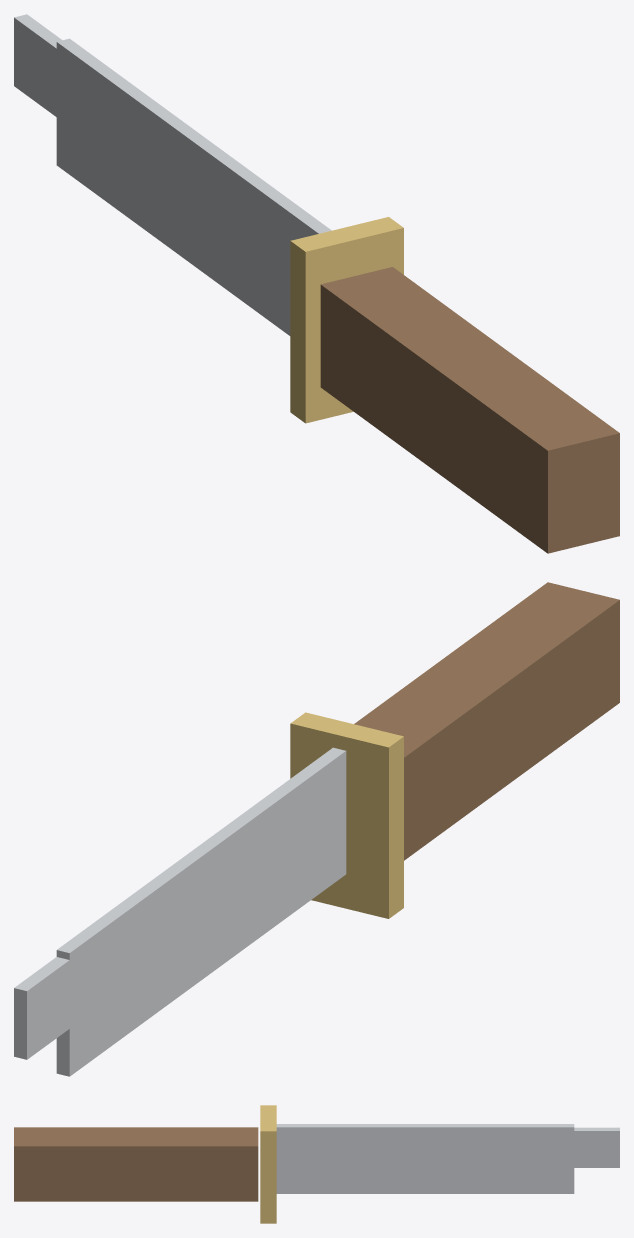
File: hunting_knife.glb
The picture shows the model from 3 angles, top to bottom: view 1: azimuth 30°, elevation 25°; view 2: azimuth 150°, elevation 25°; view 3: azimuth 270°, elevation 25°; orthographic projection. The views are drawn at different scales.
Visible parts, largest first — view 1: hunting_knife; view 2: hunting_knife; view 3: hunting_knife.
Part boxes in pixels (<box>): hunting_knife: <box>14,14,619,553</box>; hunting_knife: <box>14,582,619,1076</box>; hunting_knife: <box>14,1105,619,1223</box>.
Size of the model in its own units: 0.03 by 0.05 by 0.2975.
